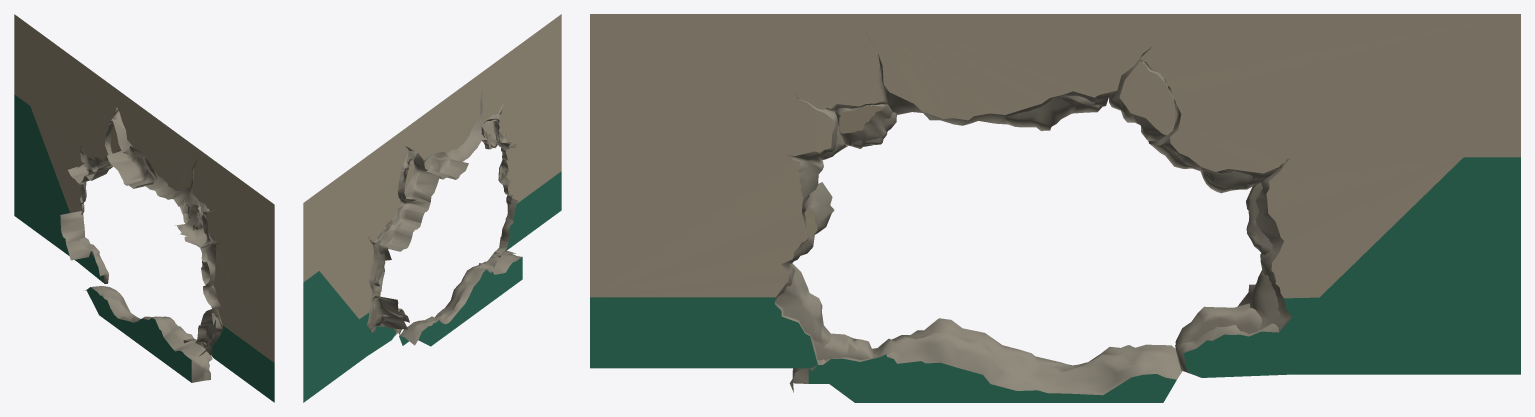
The model's file is SM_H_Building_Tide_MedicalRoom_04G_ATLAS.fbx.
The picture shows the model from 3 angles, left to right: view 1: azimuth 30°, elevation 25°; view 2: azimuth 150°, elevation 25°; view 3: azimuth 270°, elevation 25°; orthographic projection. The views are drawn at different scales.
Parts seen in each view (by area): view 1: SM_H_Building_Tide_MedicalRoom_04G_ATLAS; view 2: SM_H_Building_Tide_MedicalRoom_04G_ATLAS; view 3: SM_H_Building_Tide_MedicalRoom_04G_ATLAS.
Part boxes in pixels (x1,y1,x2,y2): SM_H_Building_Tide_MedicalRoom_04G_ATLAS: (14, 14, 274, 402); SM_H_Building_Tide_MedicalRoom_04G_ATLAS: (303, 14, 561, 402); SM_H_Building_Tide_MedicalRoom_04G_ATLAS: (590, 14, 1520, 402).
Bounding box in the file's own units: 88.34 × 1485 × 685.
